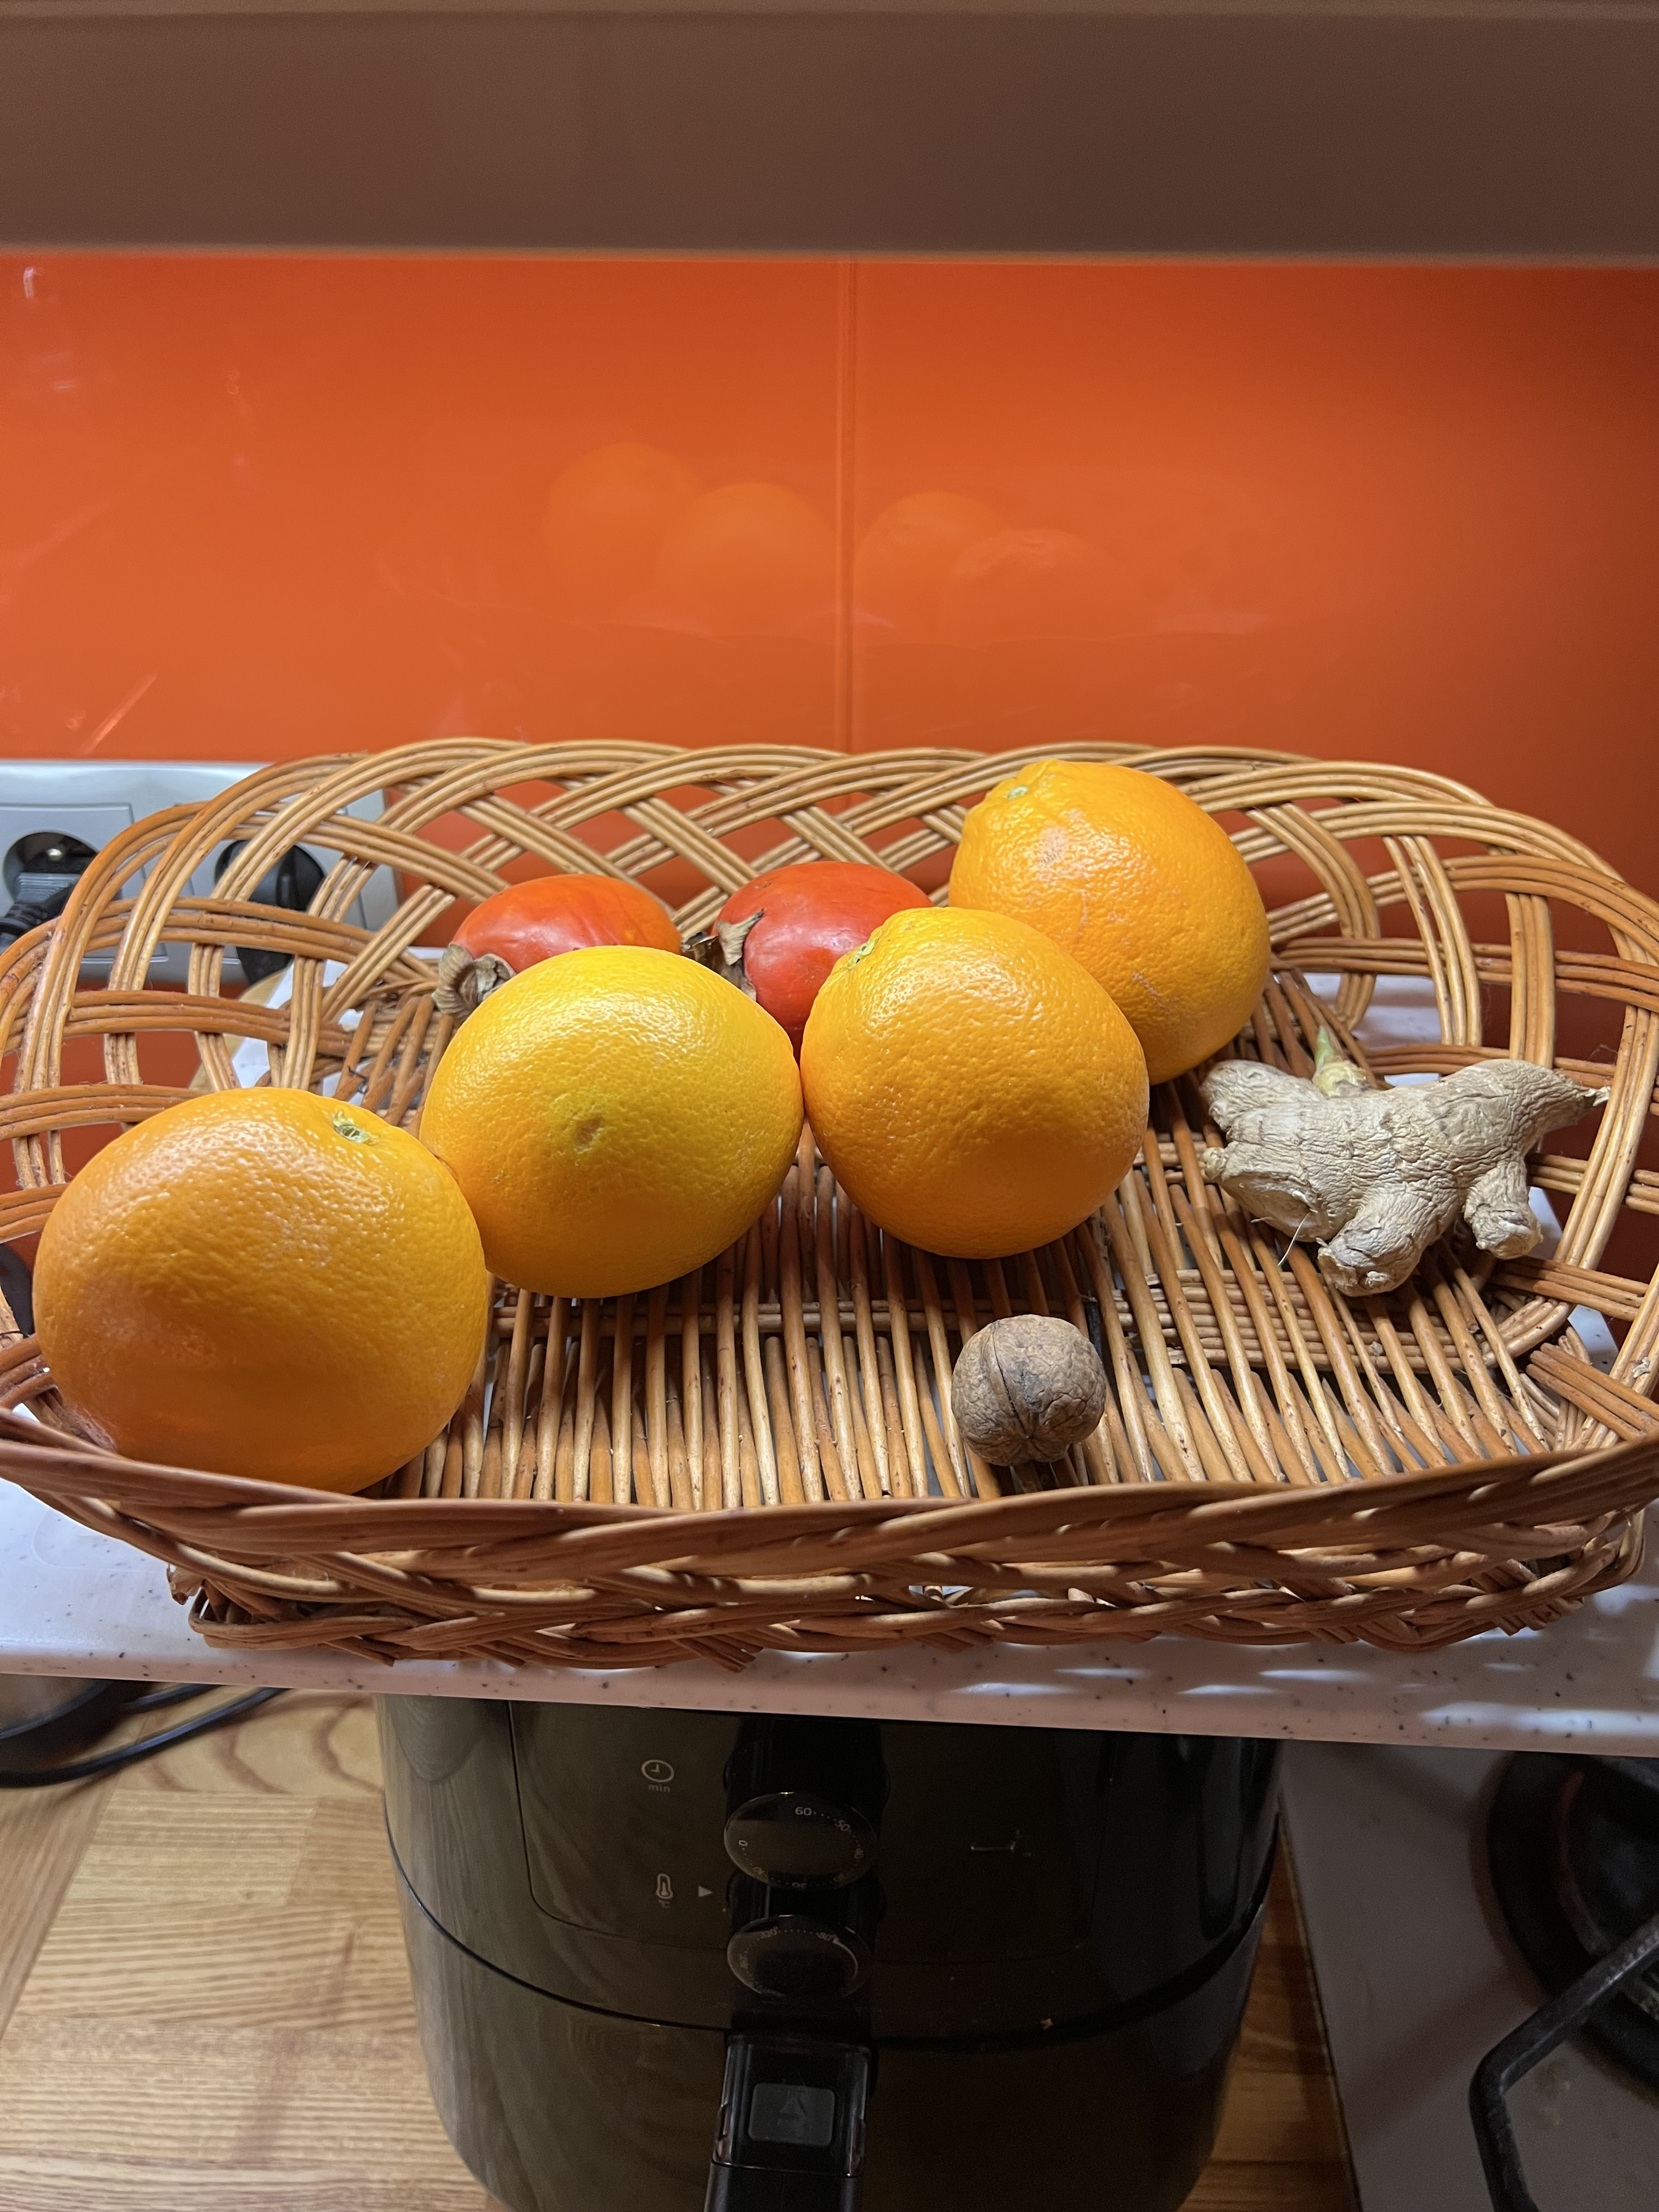BIODEGRADABLE: (30, 1082, 491, 1507), (432, 916, 791, 1291), (796, 902, 1148, 1258), (1187, 1008, 1598, 1305), (946, 754, 1263, 1082), (713, 860, 941, 1033), (439, 871, 690, 1003), (941, 1313, 1114, 1472)
